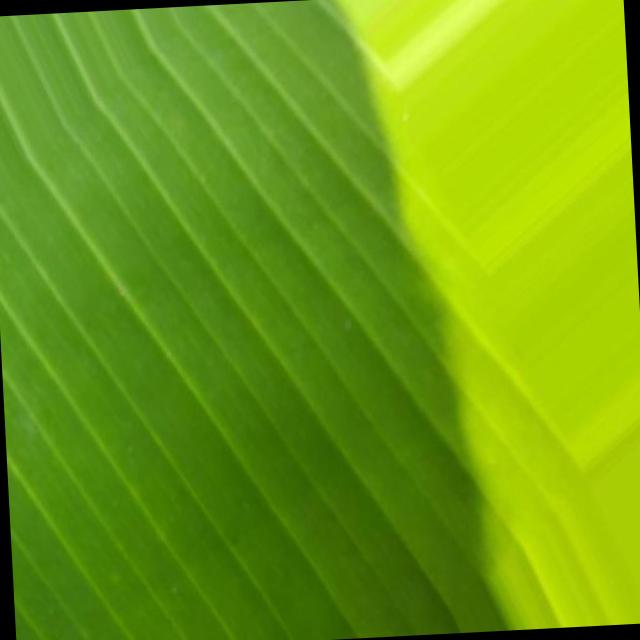Banana_Healthy: (64, 101, 434, 562)
